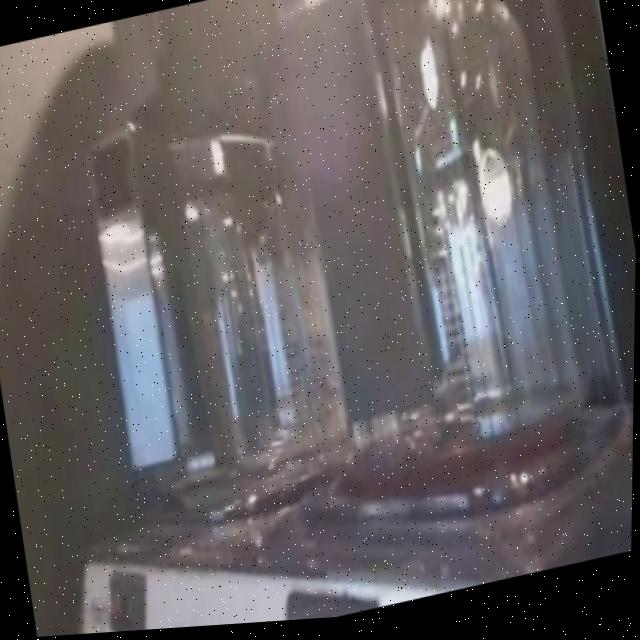nocoffee: (258, 15, 637, 538), (79, 136, 337, 544)
